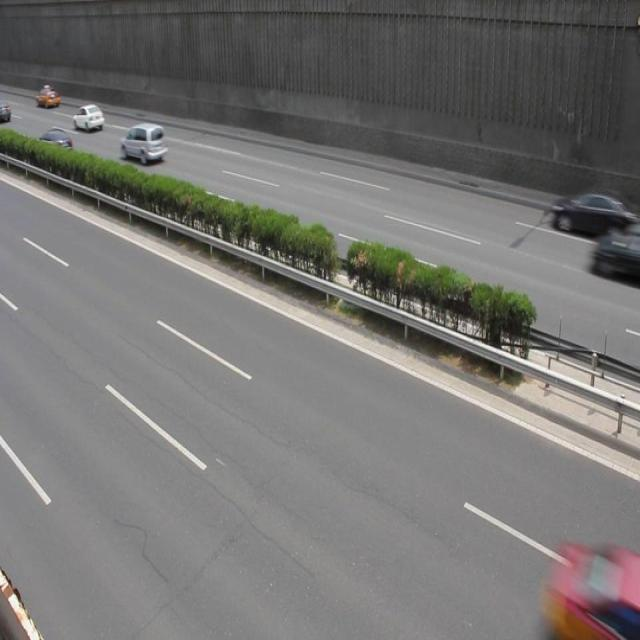car: (550, 187, 628, 242), (592, 228, 629, 275), (39, 127, 74, 162), (73, 105, 104, 132)
truck: (122, 124, 169, 162)
